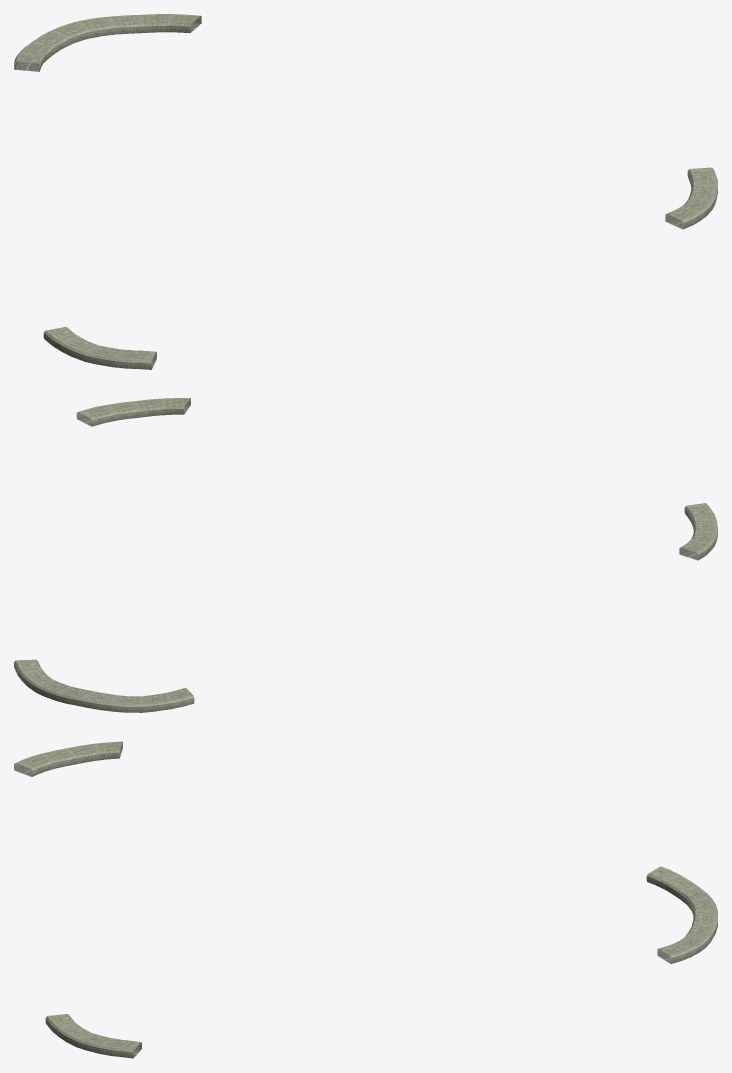
3 views of the same model, one above another, from view 1: azimuth 30°, elevation 25°; view 2: azimuth 150°, elevation 25°; view 3: azimuth 270°, elevation 25° (orthographic). The views are drawn at different scales.
Parts seen in each view (by area): view 1: SM_HK_00_00; view 2: SM_HK_00_00; view 3: SM_HK_00_00.
Boxes of the visible parts, x1,y1,x2,y2 form: SM_HK_00_00: (14, 14, 717, 369); SM_HK_00_00: (14, 398, 717, 712); SM_HK_00_00: (14, 741, 717, 1058).
Bounding box in the file's own units: 57543 × 1858 × 56078.
